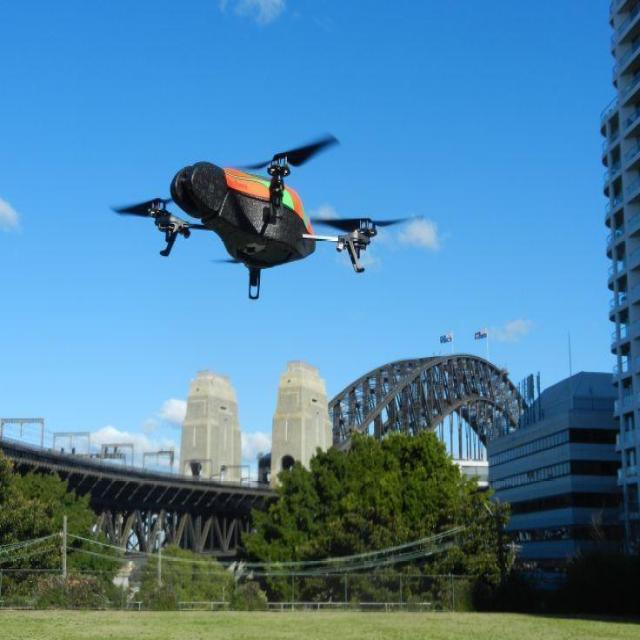drone: (114, 130, 426, 302)
